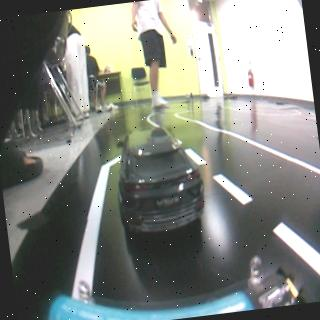car: (113, 124, 209, 236)
